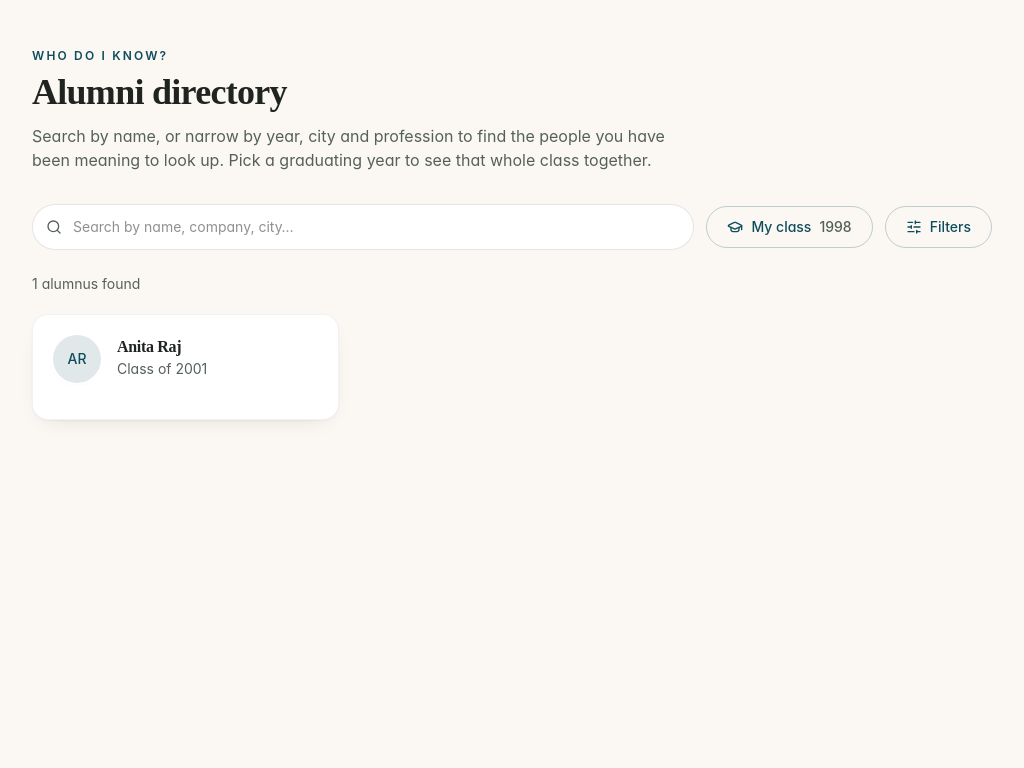
it: AlumniDirectoryPage › labels another year as a graduating class rather than my own
Click the button "My class 1998".
click(790, 227)  # box 706,206 -> 873,248
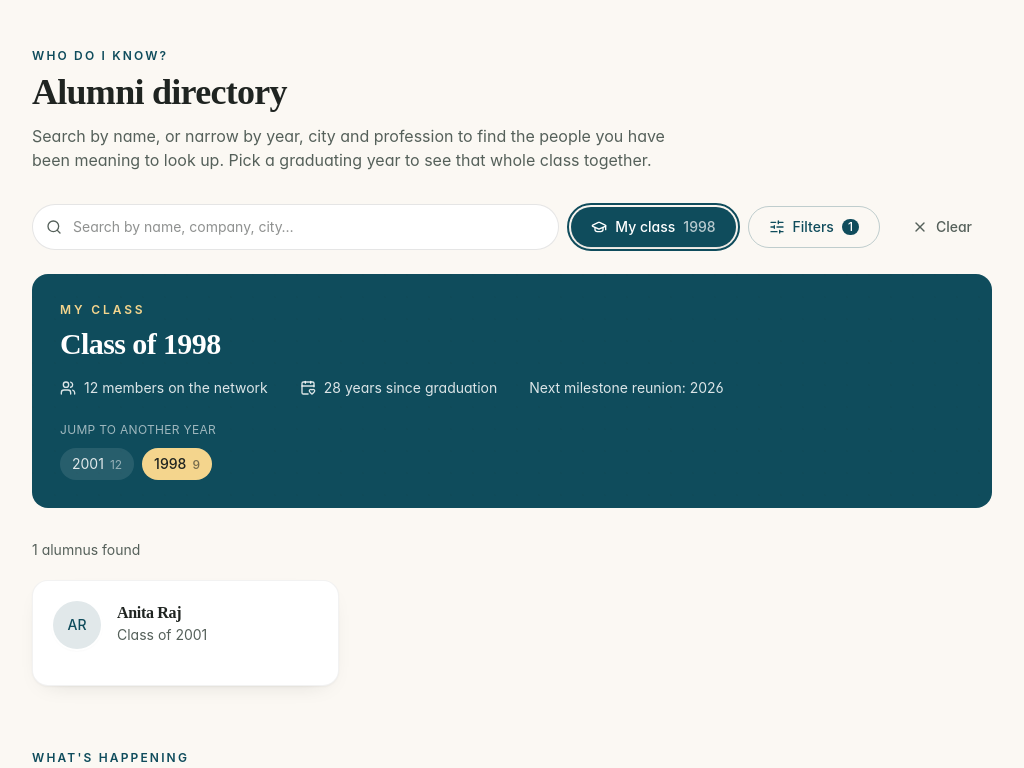
Click the button "200112".
click(97, 464)  # box 60,448 -> 134,480
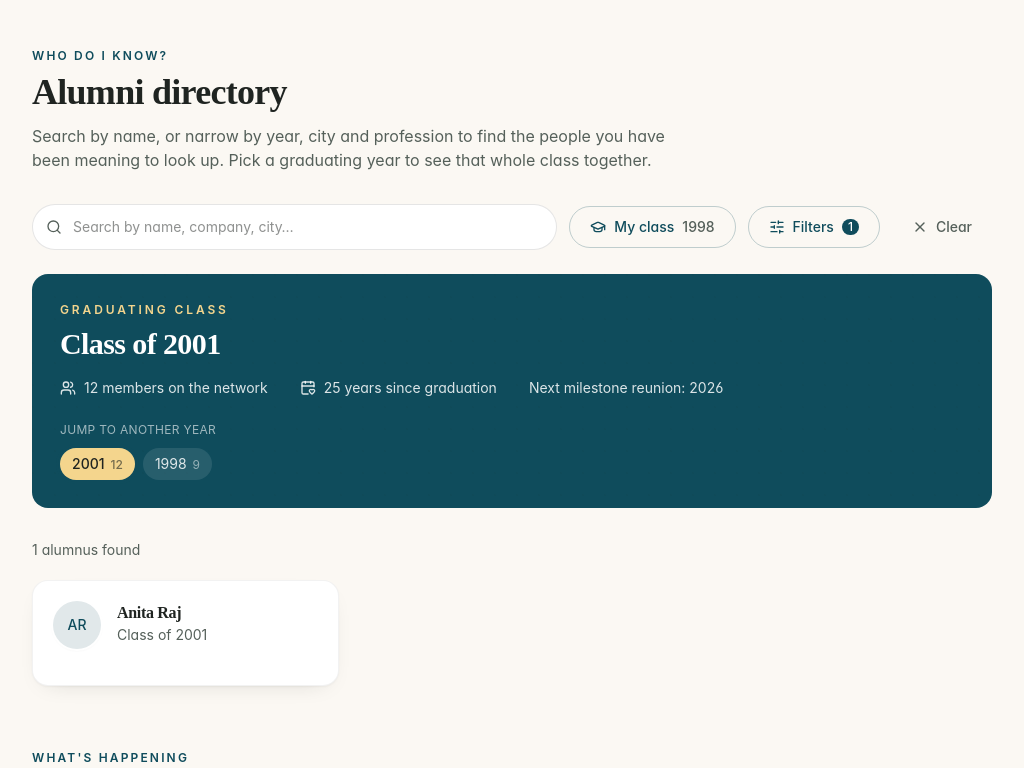
Now the text "Graduating class" is shown, box 60,302 -> 229,317
